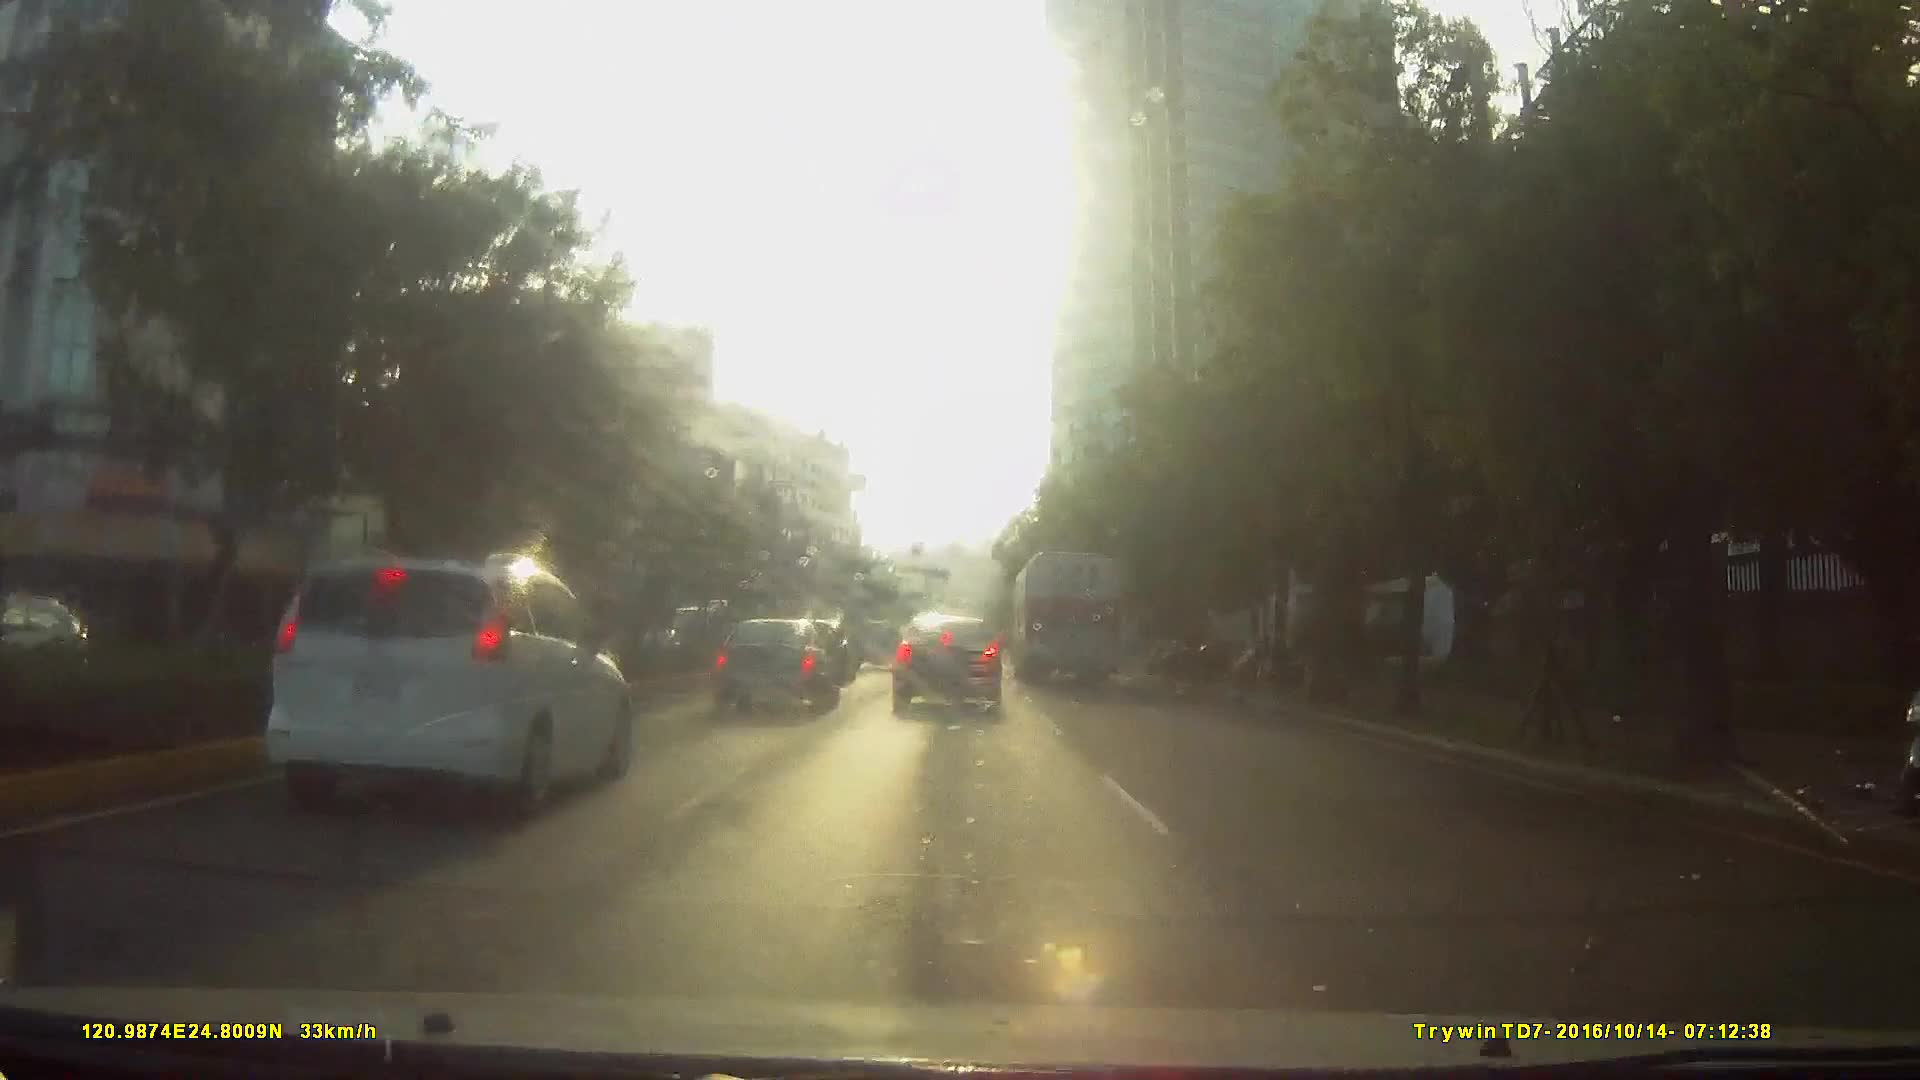vehicle: (251, 556, 684, 868), (241, 549, 641, 827), (1011, 549, 1125, 688), (709, 615, 843, 716), (891, 611, 1005, 717), (849, 618, 905, 674)
